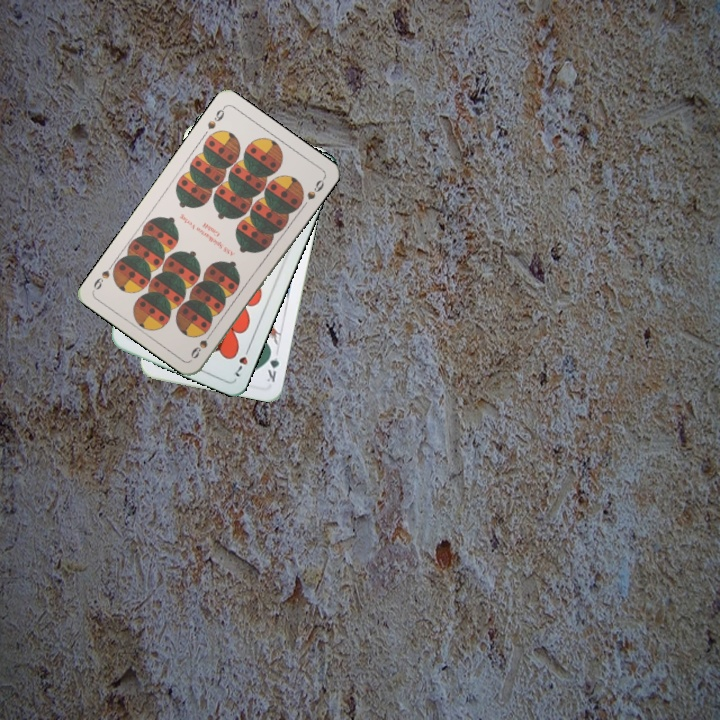GK: (262, 345, 282, 385)
H7: (231, 342, 253, 380)
S9: (187, 326, 216, 361), (203, 103, 228, 132)
